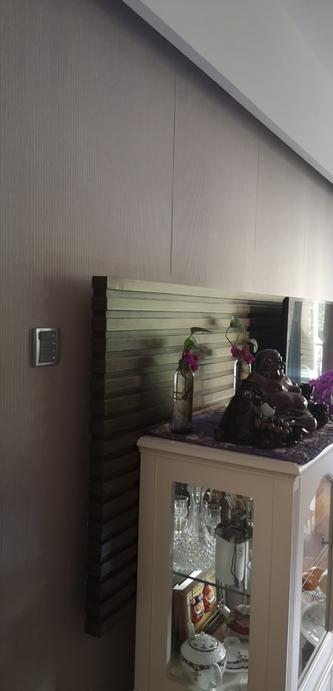switch: (41, 331, 63, 363)
